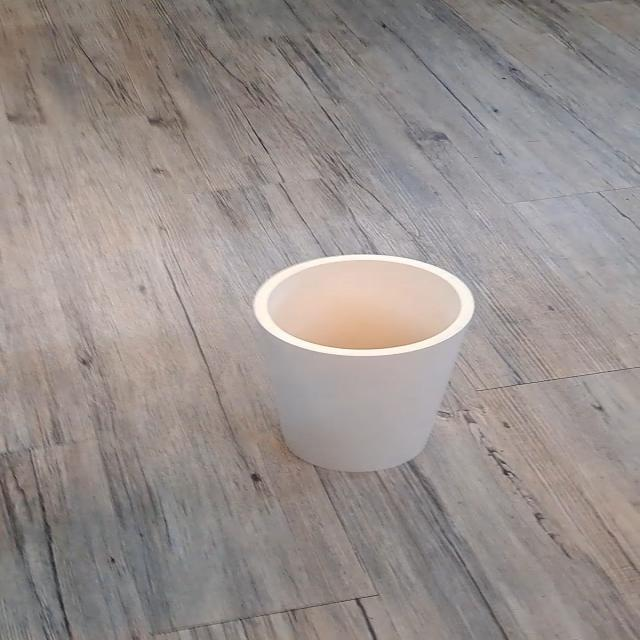CORAL: (182, 230, 540, 493)
